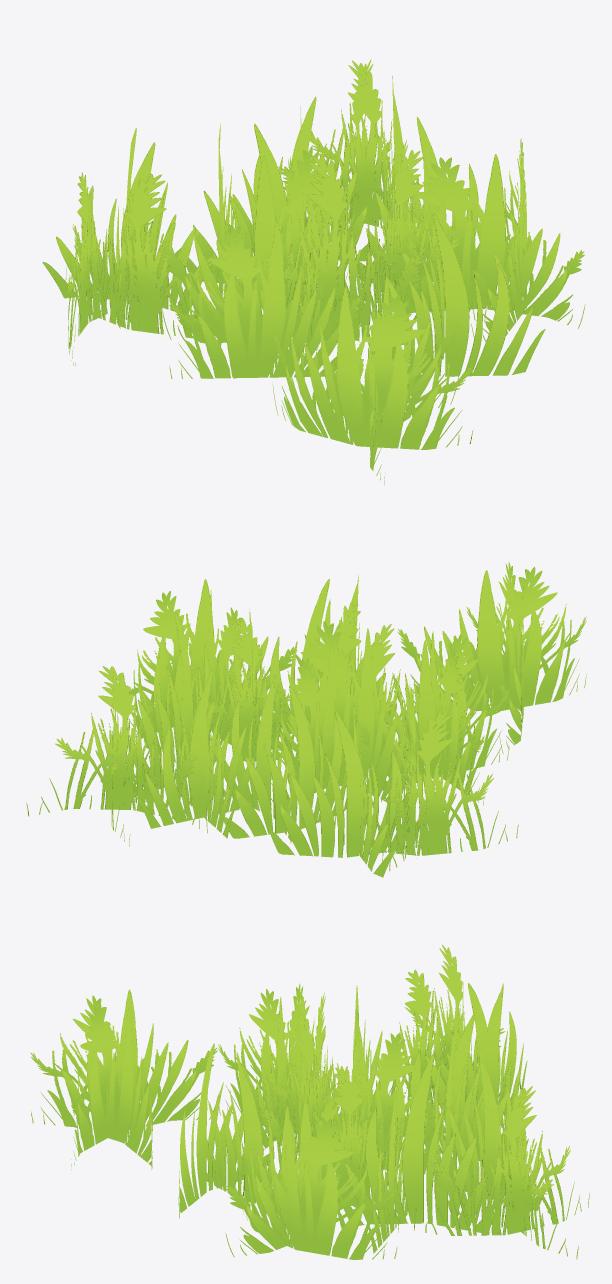
Rendered from Grass_A.FBX.
The picture shows the model from 3 angles, top to bottom: view 1: azimuth 30°, elevation 25°; view 2: azimuth 150°, elevation 25°; view 3: azimuth 270°, elevation 25°; orthographic projection. The views are drawn at different scales.
Visible parts, largest first — view 1: Grass_1_A, Grass_1_C, Grass_1_B; view 2: Grass_1_A, Grass_1_B, Grass_1_C; view 3: Grass_1_A, Grass_1_B, Grass_1_C.
Part boxes in pixels (<box>): Grass_1_A: <box>161,138,585,485</box>; Grass_1_C: <box>65,59,486,380</box>; Grass_1_B: <box>42,76,545,384</box>; Grass_1_A: <box>124,562,586,810</box>; Grass_1_B: <box>124,575,419,877</box>; Grass_1_C: <box>26,601,518,875</box>; Grass_1_A: <box>30,984,452,1259</box>; Grass_1_B: <box>178,983,546,1253</box>; Grass_1_C: <box>243,944,589,1259</box>.
Bounding box in the file's own units: 461 × 189 × 571.
